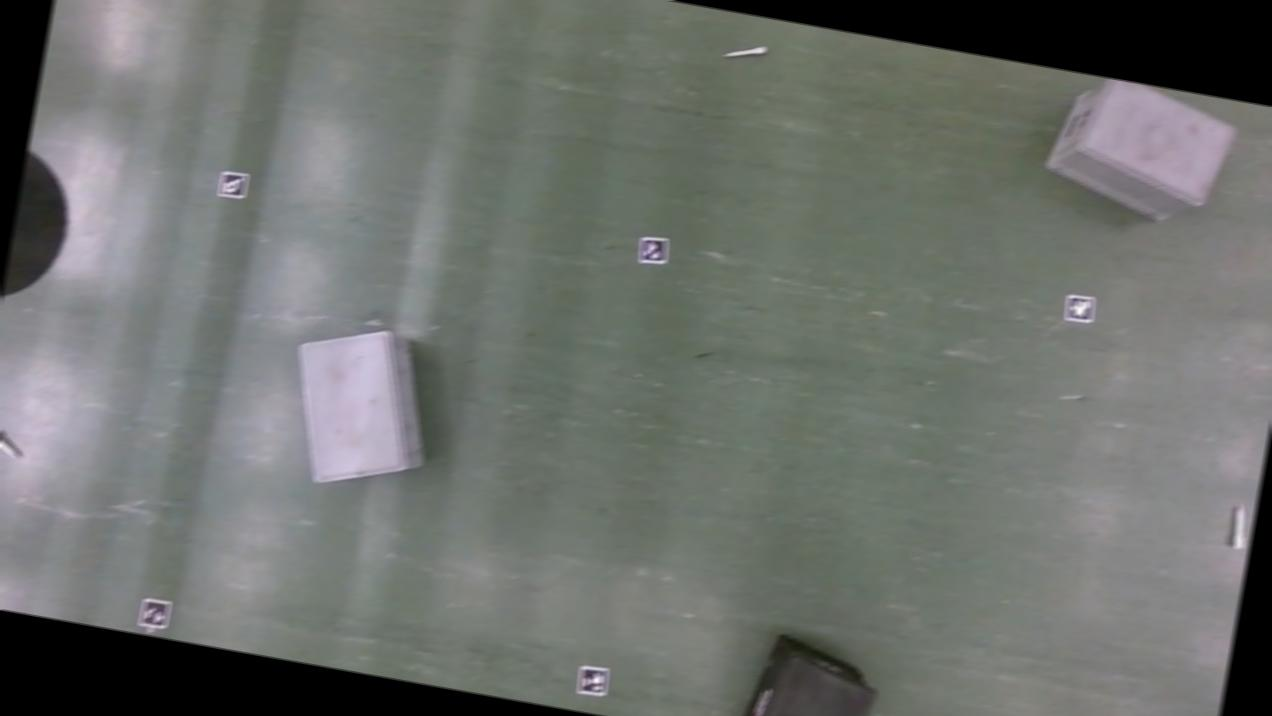probes: (721, 38, 768, 64), (1226, 502, 1251, 549), (0, 423, 28, 459)
rako: (266, 299, 450, 505), (1030, 68, 1252, 235), (728, 627, 887, 716)
